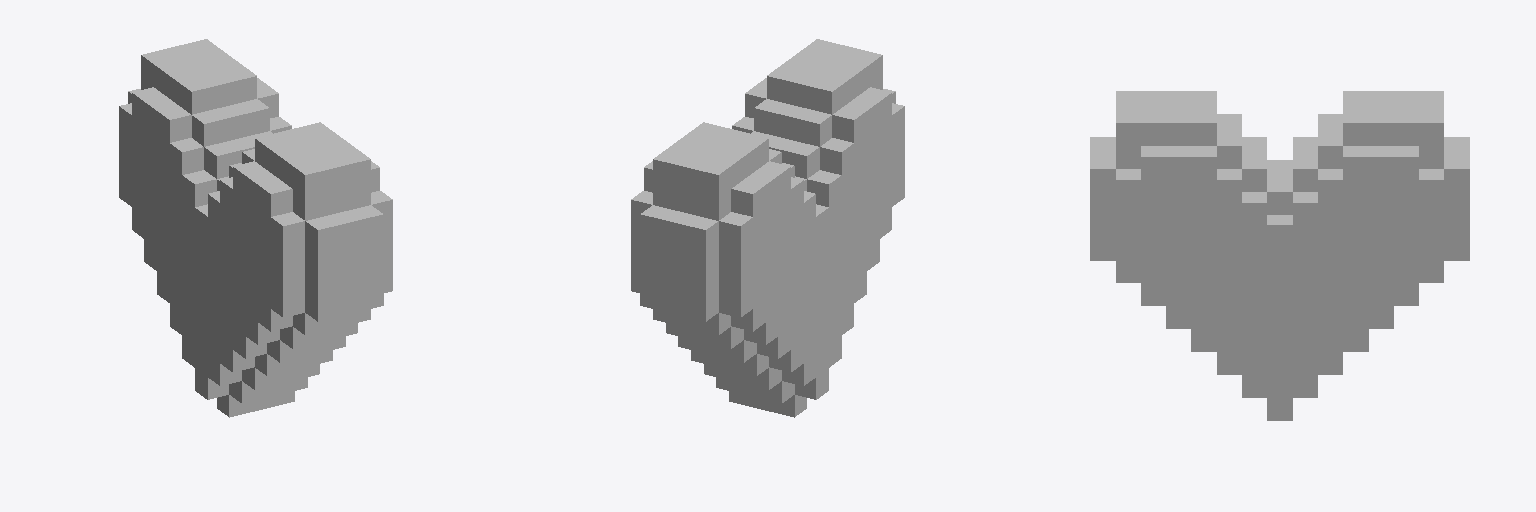
Rendered from Package 01 Necro Dungeon-41.obj.
3 views of the same model, side by side, from view 1: azimuth 30°, elevation 25°; view 2: azimuth 150°, elevation 25°; view 3: azimuth 270°, elevation 25° (orthographic).
Visible parts, largest first — view 1: object 1; view 2: object 1; view 3: object 1.
Boxes of the visible parts, <box> form: object 1: <box>119,39,392,417</box>; object 1: <box>631,39,904,417</box>; object 1: <box>1090,91,1469,420</box>.
Size of the model in its own units: 0.5 by 1.3 by 1.5.